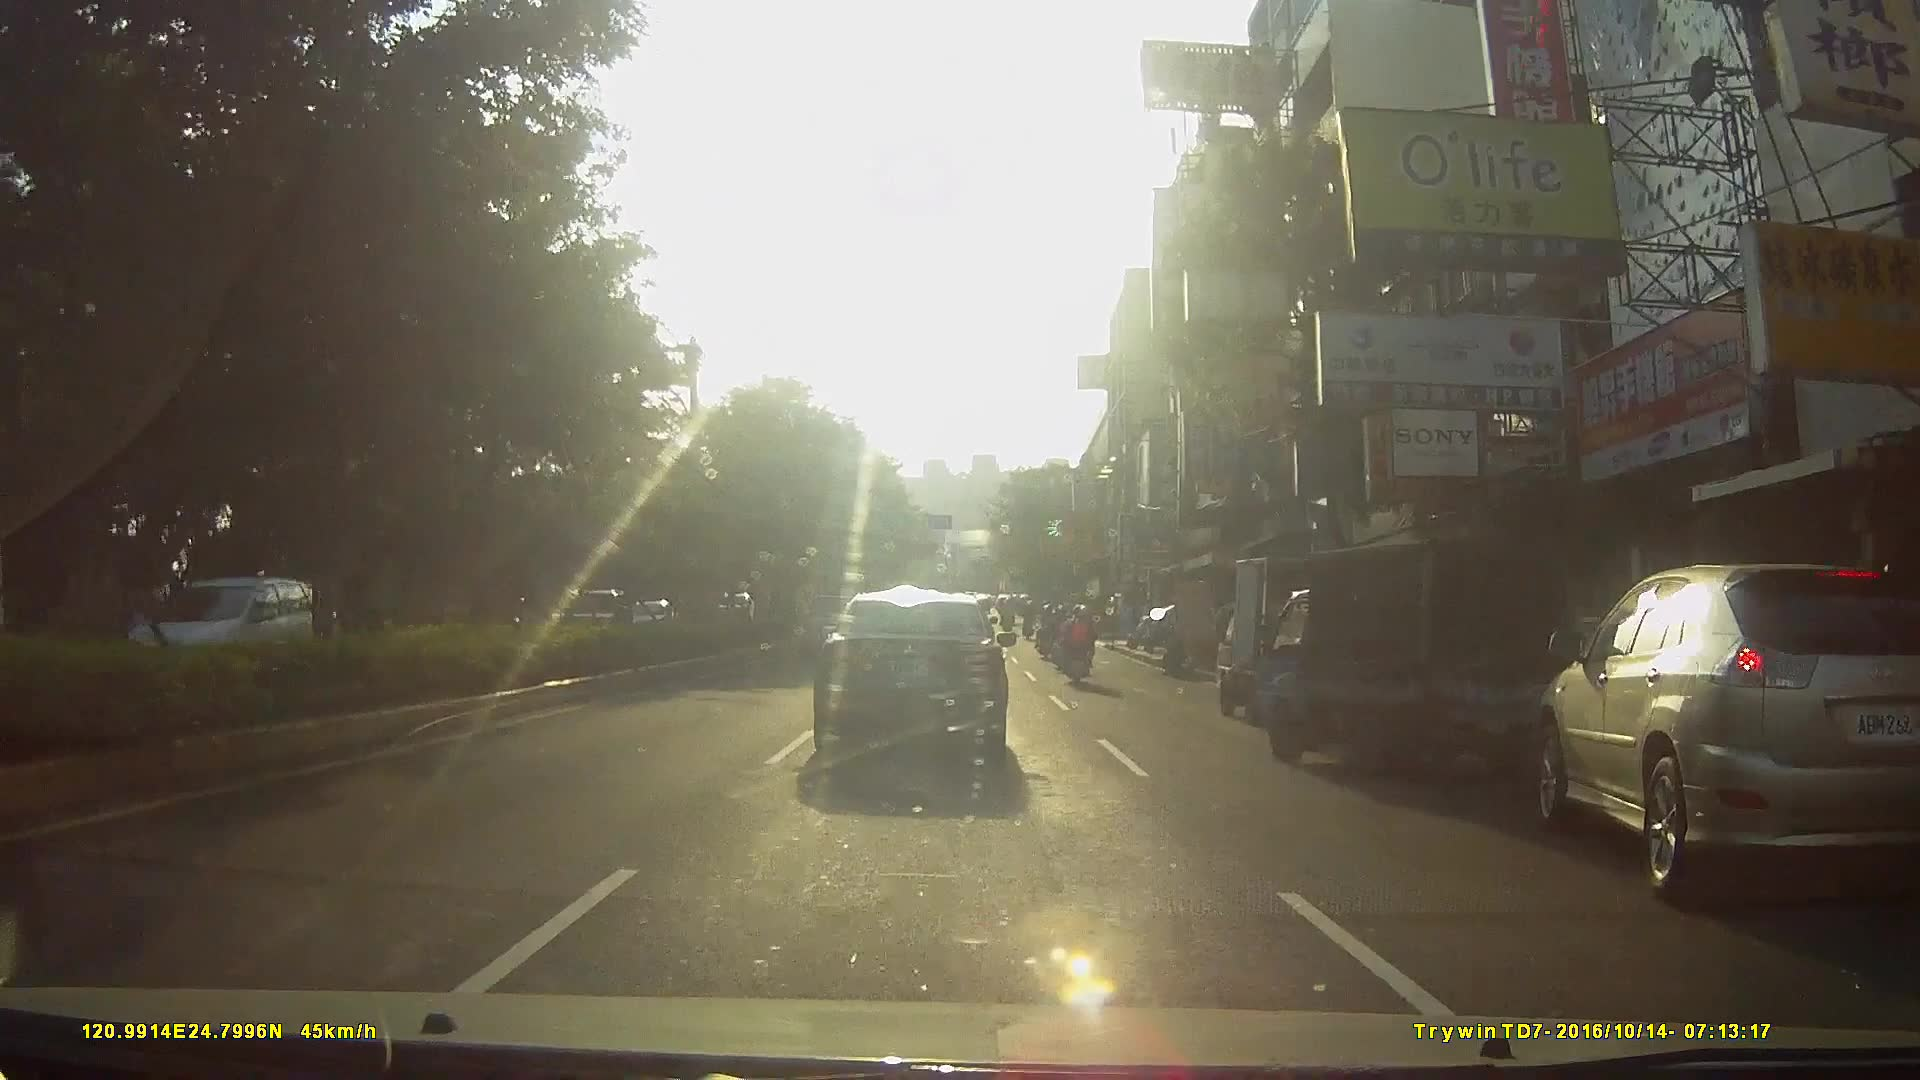rider: (1055, 607, 1098, 697), (1037, 607, 1059, 663)
vehicle: (1519, 553, 1920, 906), (1258, 529, 1612, 802), (811, 589, 1030, 780), (1204, 551, 1404, 730), (112, 573, 340, 684)
